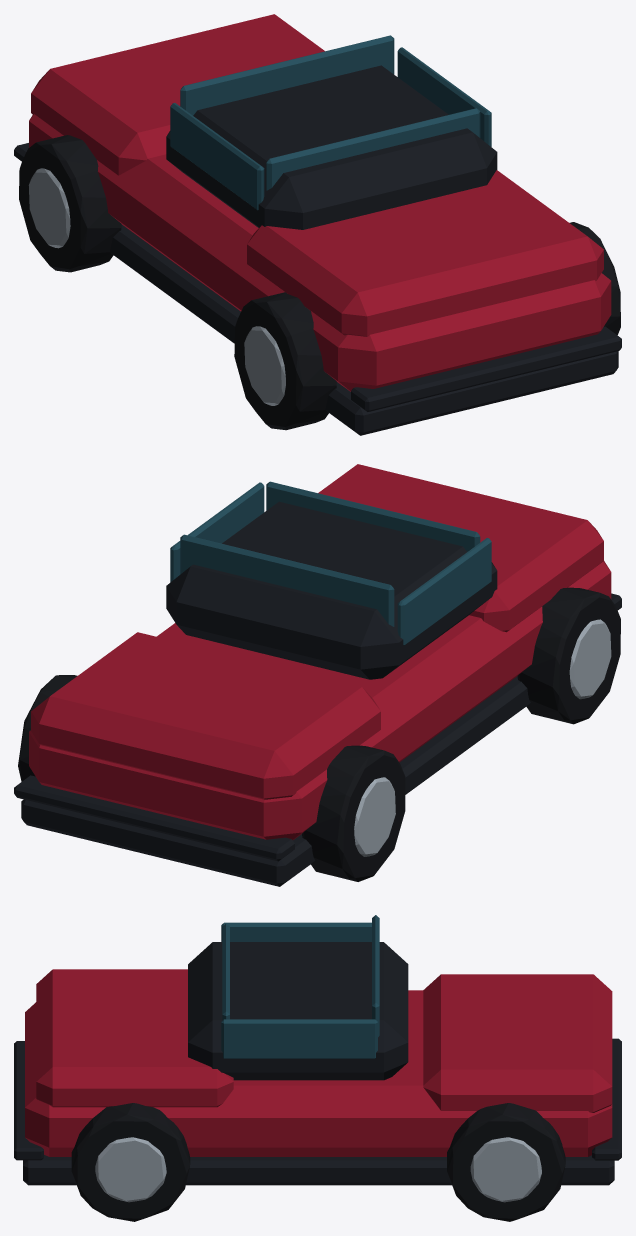
File: marsh_nsx91_detail_lod2.fbx
3 views of the same model, one above another, from view 1: azimuth 30°, elevation 25°; view 2: azimuth 150°, elevation 25°; view 3: azimuth 270°, elevation 25° (orthographic). The views are drawn at different scales.
Parts seen in each view (by area): view 1: RearDeck, Body, Cabin, FrontWedge, Undertray, PerformanceTire, PerformanceTire.001, Windshield, RearDiffuser, SideGlass, RearGlass, SideGlass.001 (+3 smaller); view 2: FrontWedge, Cabin, Body, RearDeck, Undertray, PerformanceTire.001, PerformanceTire, Windshield, FrontSplitter, SideGlass, RearGlass, AlloyWheel.001 (+3 smaller); view 3: Body, FrontWedge, RearDeck, Cabin, Undertray, PerformanceTire.002, PerformanceTire.003, SideGlass.001, AlloyWheel.002, AlloyWheel.003, SideGlass, RearDiffuser (+3 smaller).
Boxes of the visible parts, left/top/right/bottom form: RearDeck: left=247, top=170, right=603, bottom=336; Body: left=29, top=114, right=611, bottom=391; Cabin: left=166, top=65, right=497, bottom=229; FrontWedge: left=31, top=14, right=324, bottom=175; Undertray: left=110, top=224, right=618, bottom=435; PerformanceTire: left=234, top=292, right=336, bottom=430; PerformanceTire.001: left=19, top=135, right=121, bottom=272; Windshield: left=180, top=35, right=394, bottom=115; RearDiffuser: left=351, top=326, right=621, bottom=411; SideGlass: left=170, top=103, right=264, bottom=210; RearGlass: left=266, top=108, right=480, bottom=190; SideGlass.001: left=397, top=47, right=491, bottom=146; FrontWedge: left=31, top=632, right=380, bottom=799; Cabin: left=166, top=501, right=497, bottom=679; Body: left=29, top=561, right=611, bottom=839; RearDeck: left=318, top=464, right=603, bottom=632; Undertray: left=21, top=676, right=530, bottom=886; PerformanceTire.001: left=302, top=745, right=405, bottom=881; PerformanceTire: left=517, top=587, right=620, bottom=724; Windshield: left=180, top=534, right=394, bottom=626; FrontSplitter: left=14, top=775, right=294, bottom=861; SideGlass: left=397, top=538, right=491, bottom=645; RearGlass: left=266, top=481, right=480, bottom=551; AlloyWheel.001: left=354, top=777, right=395, bottom=856; Body: left=25, top=990, right=612, bottom=1156; FrontWedge: left=423, top=974, right=612, bottom=1112; RearDeck: left=36, top=969, right=233, bottom=1107; Cabin: left=188, top=942, right=408, bottom=1080; Undertray: left=23, top=1155, right=614, bottom=1185; PerformanceTire.002: left=71, top=1103, right=190, bottom=1221; PerformanceTire.003: left=447, top=1103, right=565, bottom=1221; SideGlass.001: left=221, top=1019, right=377, bottom=1058; AlloyWheel.002: left=95, top=1137, right=166, bottom=1202; AlloyWheel.003: left=470, top=1137, right=541, bottom=1202; SideGlass: left=221, top=922, right=371, bottom=941; RearDiffuser: left=14, top=1041, right=43, bottom=1160.
Bounding box in the file's own units: 2.44 × 1.59 × 4.47.
